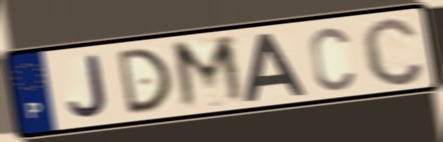A: (242, 30, 309, 104)
C: (358, 14, 428, 89), (307, 25, 357, 94)
D: (114, 45, 175, 117)
J: (66, 52, 110, 120)
M: (168, 32, 251, 113)
